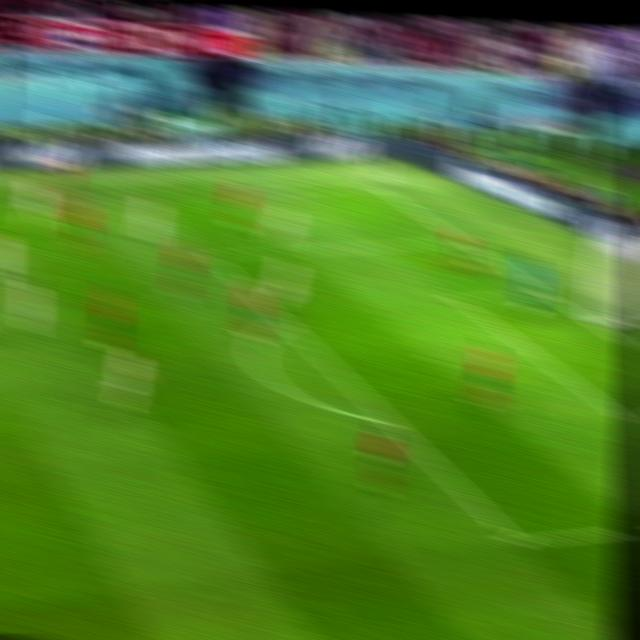bigarea_bottom_inner: (498, 523, 534, 557)
bigarea_top_inner: (196, 242, 225, 266)
bigarea_top_outter: (448, 232, 473, 251)
bottom_arc_area_intersection: (373, 407, 403, 433)
corner: (361, 176, 390, 195)
smallarea_bottom_inner: (608, 402, 634, 433)
smallarea_top_inner: (443, 286, 472, 312)
smallarea_top_outter: (528, 280, 557, 302)
top_arc_area_intersection: (269, 309, 298, 334)
